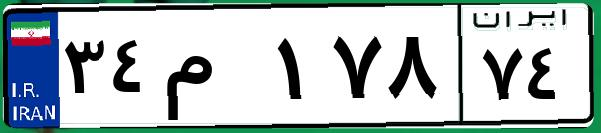1: (270, 28, 330, 110)
3: (57, 26, 110, 100)
4: (525, 38, 570, 115), (110, 28, 158, 98)
7: (330, 28, 385, 110), (475, 38, 525, 113)
8: (385, 28, 445, 110)
م: (158, 20, 270, 120)
